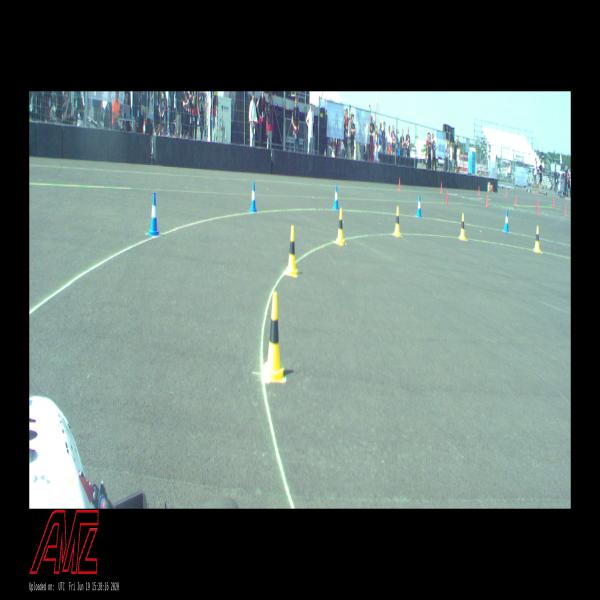blue_cone: (149, 193, 159, 236), (250, 182, 257, 212), (333, 185, 339, 210), (416, 196, 422, 218), (504, 211, 509, 232)
yellow_cone: (263, 292, 285, 382), (285, 226, 298, 276), (336, 209, 344, 244), (393, 206, 400, 237), (459, 214, 466, 240), (534, 226, 540, 252)
